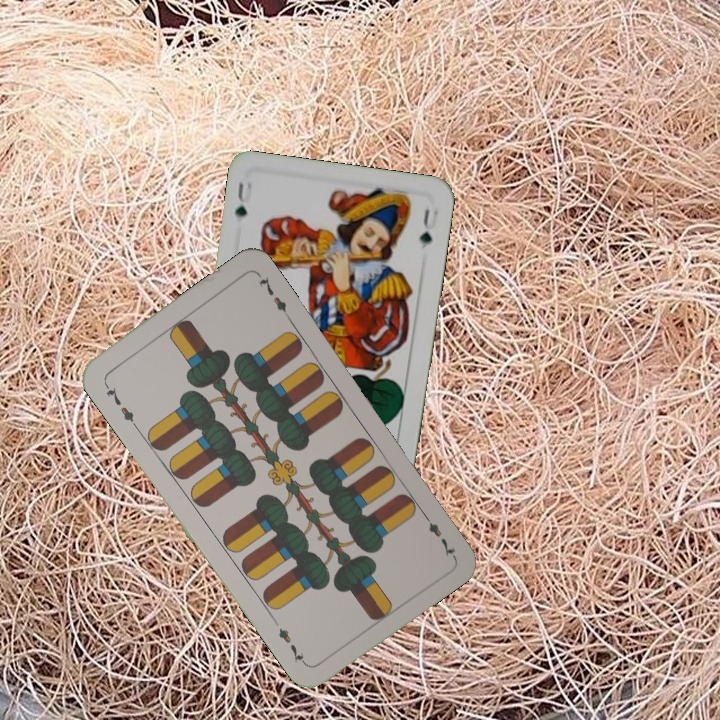E7: (100, 378, 140, 430), (418, 508, 458, 560)
GU: (230, 178, 255, 221)
